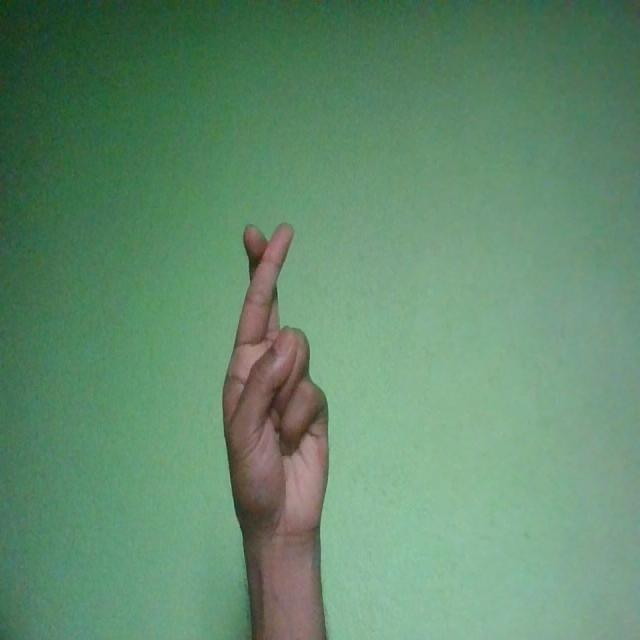Ok: (222, 222, 330, 546)
